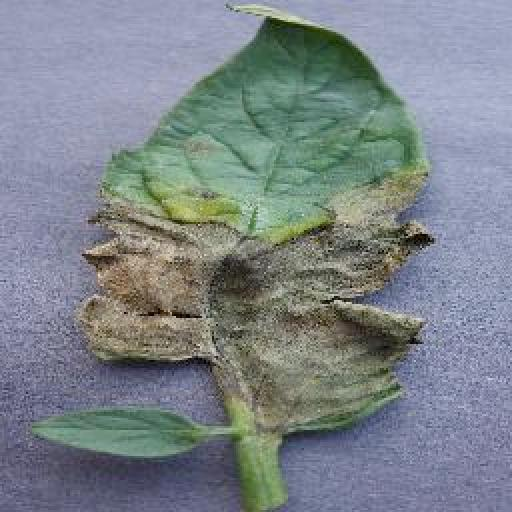disease_tomato: (74, 0, 438, 432)
